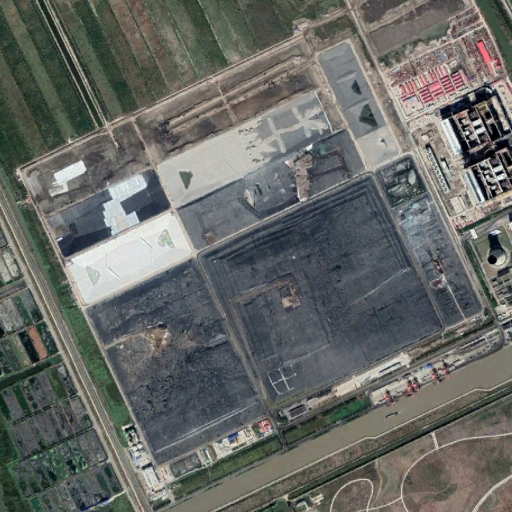lf: (21, 40, 442, 453)
